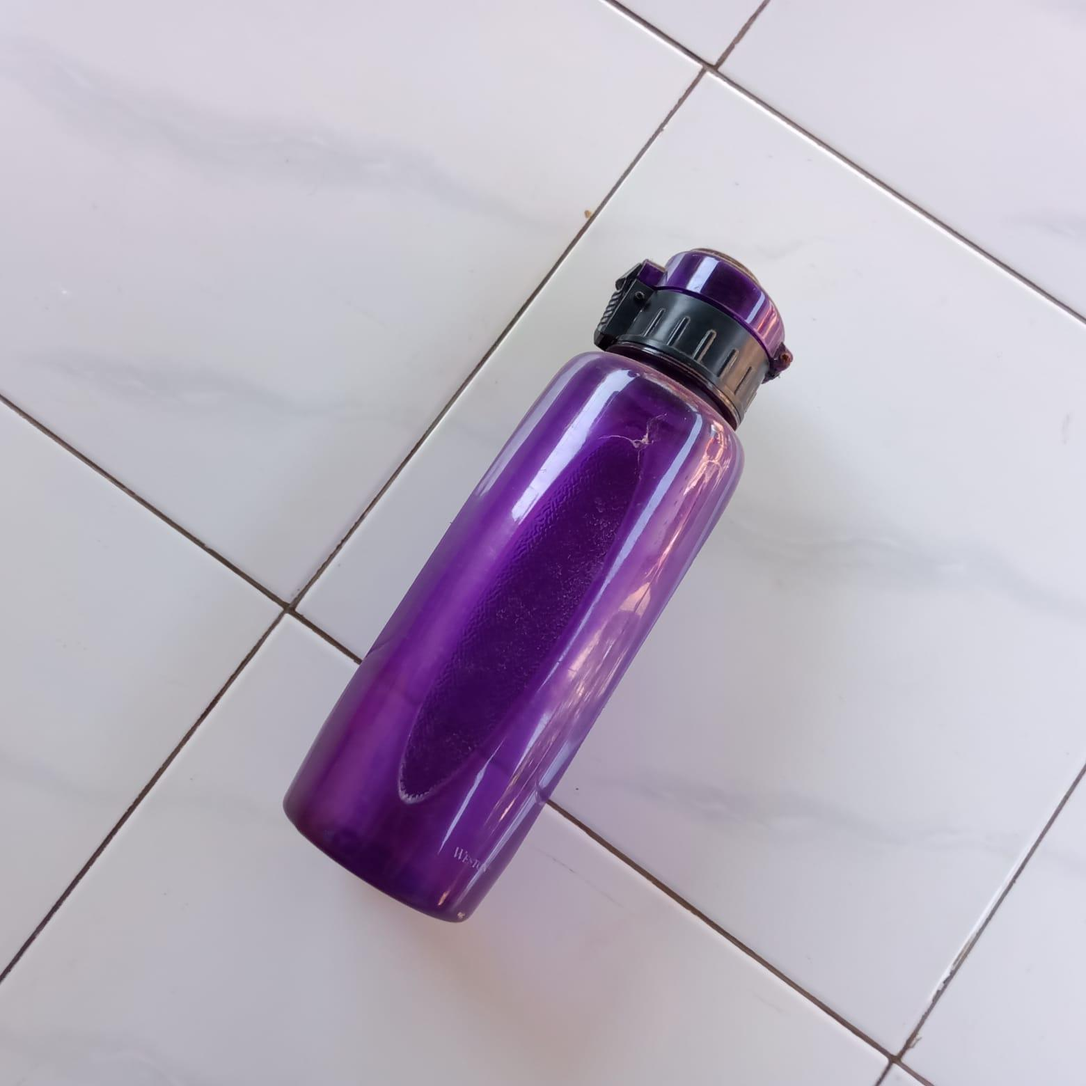Plastik: (282, 249, 793, 926)
